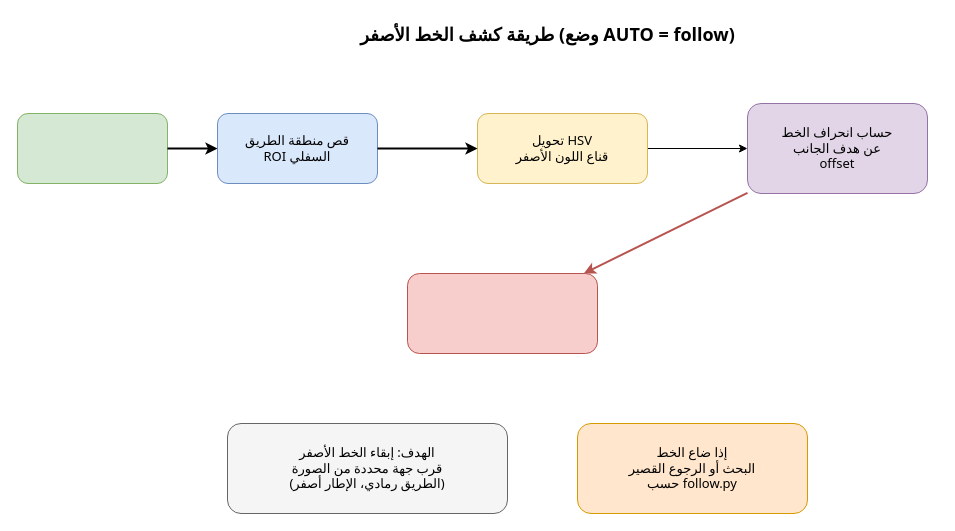
The diagram is 955 pixels wide and 531 high, and some of its shapes have lost their labels. The shapes that lost their labels are listed below. From the top down, each one's box as (x1, y1, x2, y2) in pixels, then its label:
(16, 112, 168, 184): إطار الكاميرا BGR
(406, 272, 598, 354): تحويل الانحراف إلى توجيه PWM يسار / يمين
